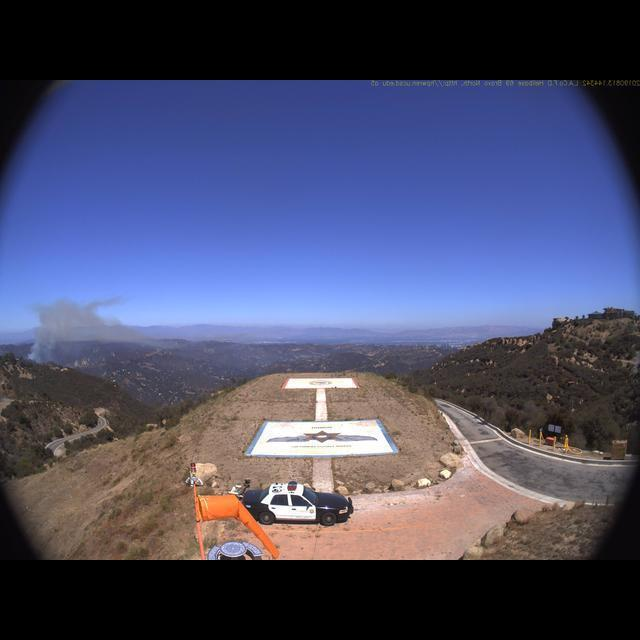Smoke: (25, 290, 139, 367)
